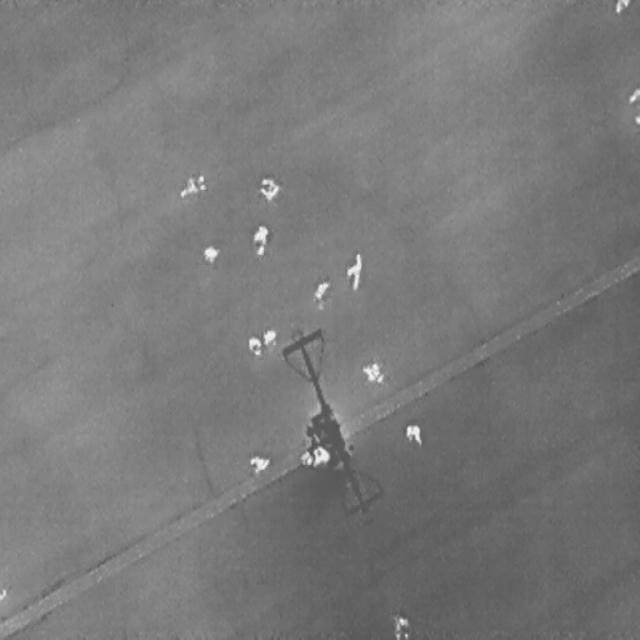Person: (358, 353, 387, 388), (175, 170, 208, 200), (251, 222, 269, 258), (345, 251, 361, 291), (258, 176, 280, 200), (311, 274, 331, 300), (392, 612, 411, 638), (258, 324, 278, 345), (248, 454, 269, 474), (403, 423, 422, 442), (312, 445, 328, 464), (201, 245, 219, 261), (246, 336, 260, 354), (628, 84, 639, 104), (615, 0, 628, 14)
